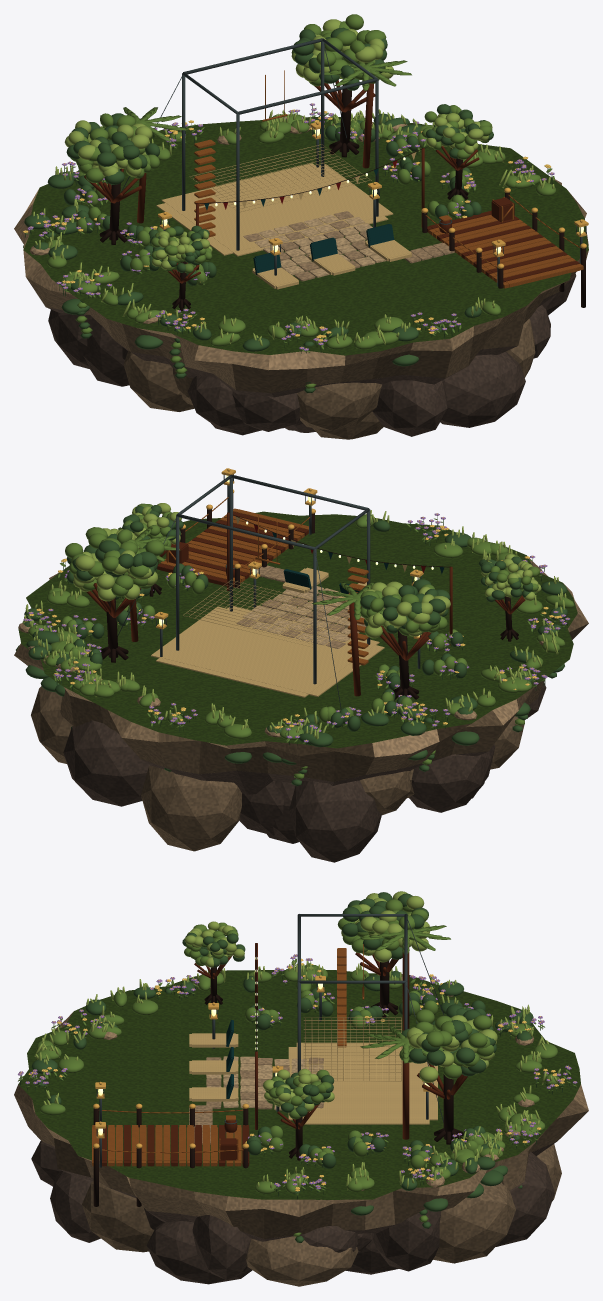
Rendered from clubmed.glb.
3 renders of one model, top to bottom at view 1: azimuth 30°, elevation 25°; view 2: azimuth 150°, elevation 25°; view 3: azimuth 270°, elevation 25°, orthographic.
Parts seen in each view (by area): view 1: GEO-clubmed-grass.001, GEO-clubmed-rock.001, GEO-clubmed-leaf.001, GEO-clubmed-rockLight.001, GEO-clubmed-leafDark.001, GEO-clubmed-cream.001, GEO-clubmed-leafLight.001, GEO-clubmed-stone.001, GEO-clubmed-oak.001, GEO-clubmed-wood.001, GEO-clubmed-iron.001, GEO-clubmed-darkwood.001 (+5 smaller); view 2: GEO-clubmed-grass.001, GEO-clubmed-rockLight.001, GEO-clubmed-rock.001, GEO-clubmed-leaf.001, GEO-clubmed-leafDark.001, GEO-clubmed-cream.001, GEO-clubmed-leafLight.001, GEO-clubmed-stone.001, GEO-clubmed-wood.001, GEO-clubmed-oak.001, GEO-clubmed-iron.001, GEO-clubmed-stoneLight.001 (+5 smaller); view 3: GEO-clubmed-grass.001, GEO-clubmed-rockLight.001, GEO-clubmed-leaf.001, GEO-clubmed-rock.001, GEO-clubmed-leafDark.001, GEO-clubmed-cream.001, GEO-clubmed-leafLight.001, GEO-clubmed-stone.001, GEO-clubmed-wood.001, GEO-clubmed-oak.001, GEO-clubmed-darkwood.001, GEO-clubmed-iron.001 (+4 smaller).
Part boxes in pixels (x1,y1,x2,y2): GEO-clubmed-grass.001: (23, 117, 588, 355); GEO-clubmed-rock.001: (46, 273, 576, 436); GEO-clubmed-leaf.001: (25, 14, 556, 388); GEO-clubmed-rockLight.001: (26, 263, 579, 439); GEO-clubmed-leafDark.001: (23, 21, 552, 393); GEO-clubmed-cream.001: (156, 144, 416, 289); GEO-clubmed-leafLight.001: (33, 19, 554, 345); GEO-clubmed-stone.001: (14, 117, 588, 370); GEO-clubmed-oak.001: (194, 70, 583, 288); GEO-clubmed-wood.001: (84, 80, 579, 283); GEO-clubmed-iron.001: (121, 38, 586, 286); GEO-clubmed-darkwood.001: (99, 79, 585, 310); GEO-clubmed-grass.001: (18, 511, 577, 748); GEO-clubmed-rockLight.001: (14, 623, 588, 851); GEO-clubmed-rock.001: (63, 683, 546, 862); GEO-clubmed-leaf.001: (22, 503, 574, 779); GEO-clubmed-leafDark.001: (16, 505, 567, 786); GEO-clubmed-cream.001: (151, 516, 407, 697); GEO-clubmed-leafLight.001: (23, 503, 566, 739); GEO-clubmed-stone.001: (14, 558, 588, 757); GEO-clubmed-wood.001: (86, 512, 525, 696); GEO-clubmed-oak.001: (160, 497, 368, 665); GEO-clubmed-iron.001: (117, 474, 421, 709); GEO-clubmed-stoneLight.001: (243, 586, 364, 645); GEO-clubmed-grass.001: (18, 970, 580, 1199); GEO-clubmed-rockLight.001: (14, 1095, 588, 1286); GEO-clubmed-leaf.001: (18, 899, 577, 1236); GEO-clubmed-rock.001: (31, 1141, 556, 1284); GEO-clubmed-leafDark.001: (20, 892, 575, 1242); GEO-clubmed-cream.001: (189, 1017, 437, 1124); GEO-clubmed-leafLight.001: (34, 891, 560, 1190); GEO-clubmed-stone.001: (14, 973, 588, 1216); GEO-clubmed-wood.001: (102, 938, 467, 1166); GEO-clubmed-oak.001: (92, 944, 364, 1166); GEO-clubmed-darkwood.001: (93, 943, 463, 1206); GEO-clubmed-iron.001: (96, 914, 444, 1167).
Bounding box in the file's own units: 26.72 × 16.08 × 26.93.
Materials: 19 (11 with a texture image).
